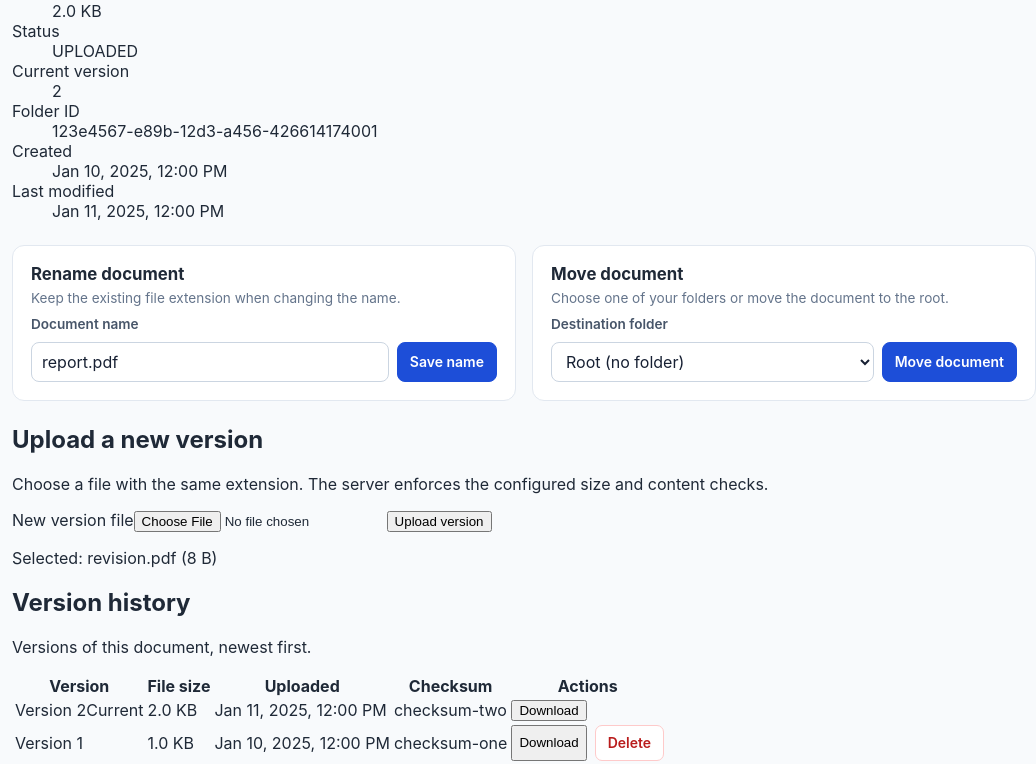
Test: DocumentDetailsPage › uploads a same-extension version and refreshes version history
The image size is (1036, 764).
Earlier steps of the test are not shown.
(page scrolled)
Expected: the text "checksum-two" is shown, [393,698,508,722]
Click the button "Upload version". click: (439, 521)
box: [387,511,492,532]
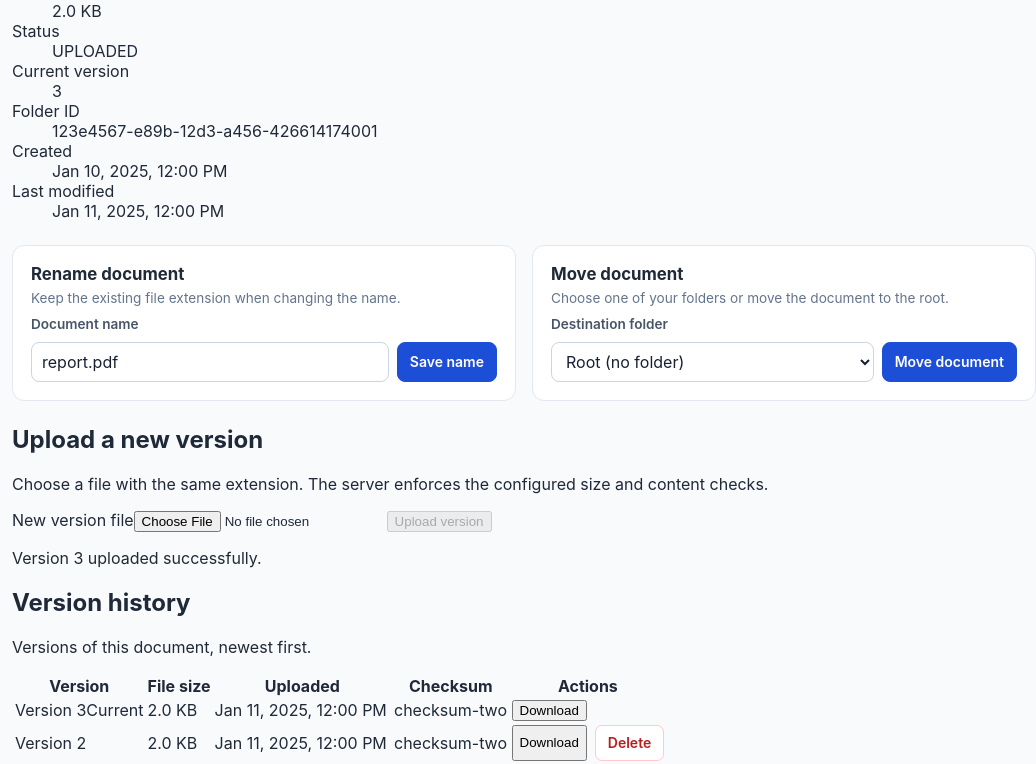
Now the text "Version 3 uploaded successfully." is shown, box [12,548,262,568]
Now the text "Version 3" is shown, box [15,700,86,720]
